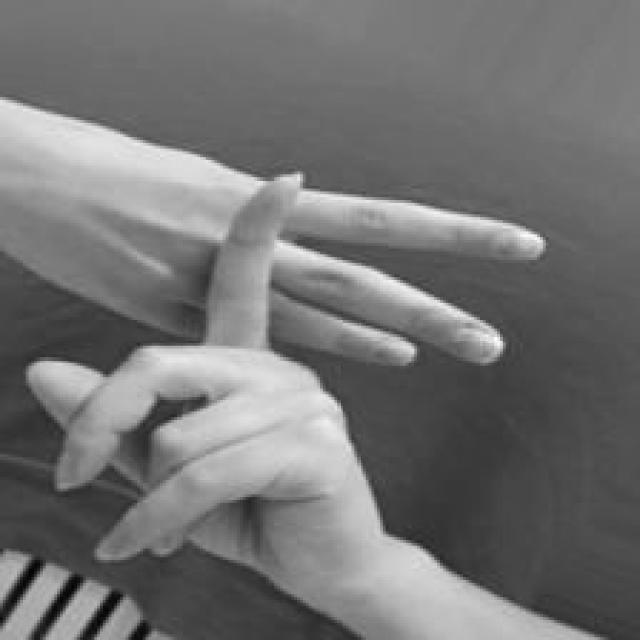E: (22, 101, 548, 596)
